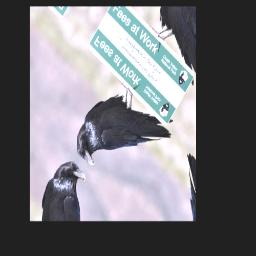Crow: (69, 61, 179, 210)
